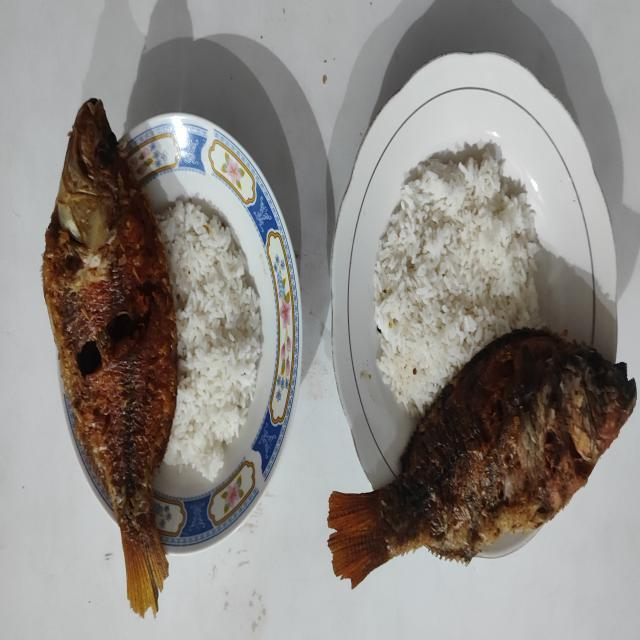ikan_mujair: (328, 328, 636, 588), (42, 99, 178, 616)
nasi_putih: (374, 140, 541, 416), (154, 195, 262, 481)
